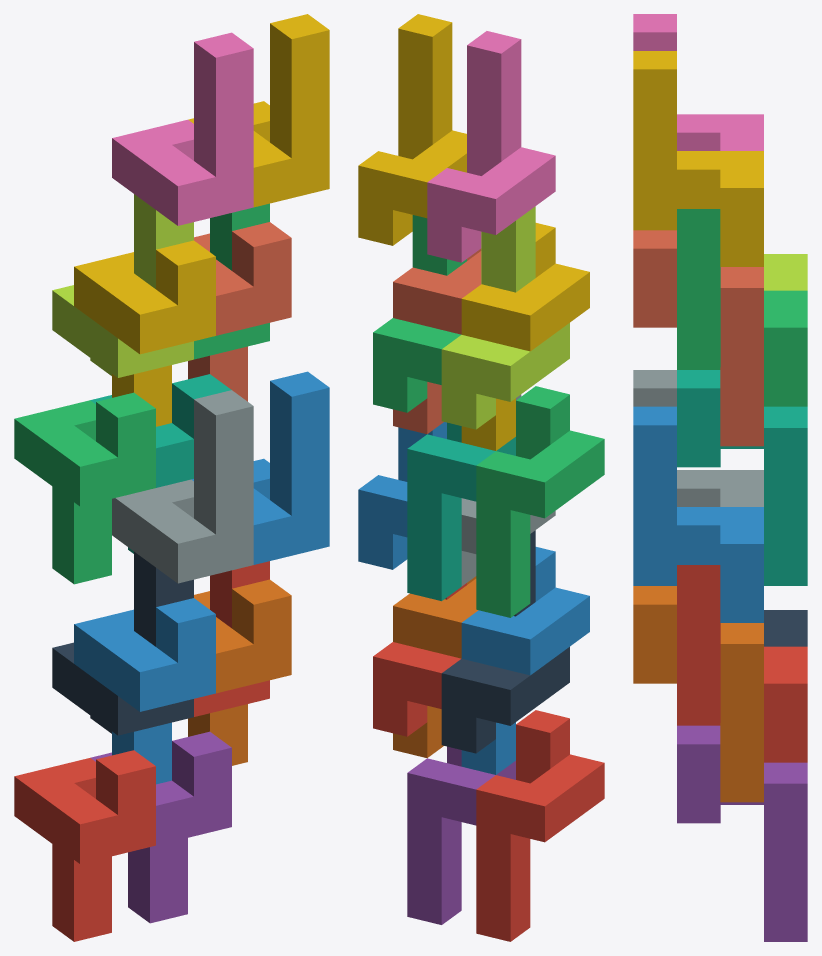
Rendered from tiling.obj.
3 renders of one model, left to right at view 1: azimuth 30°, elevation 25°; view 2: azimuth 150°, elevation 25°; view 3: azimuth 270°, elevation 25°, orthographic. The views are drawn at different scales.
Visible parts, largest first — view 1: copy_2_domain_4, copy_1_domain_3, copy_1_domain_1, copy_2_domain_2, copy_1_domain_2, copy_1_domain_4, copy_2_domain_8, copy_2_domain_6, copy_1_domain_5, copy_1_domain_6, copy_1_domain_8, copy_2_domain_3 (+4 smaller); view 2: copy_2_domain_4, copy_1_domain_3, copy_1_domain_1, copy_2_domain_8, copy_2_domain_3, copy_1_domain_5, copy_1_domain_7, copy_1_domain_4, copy_1_domain_2, copy_2_domain_1, copy_2_domain_7, copy_1_domain_8 (+4 smaller); view 3: copy_2_domain_6, copy_2_domain_8, copy_1_domain_5, copy_1_domain_7, copy_1_domain_6, copy_1_domain_8, copy_2_domain_7, copy_2_domain_5, copy_2_domain_2, copy_2_domain_4, copy_2_domain_1, copy_2_domain_3.
Part boxes in pixels (bbox=[...]): copy_2_domain_4: bbox=[112, 32, 253, 225]; copy_1_domain_3: bbox=[14, 392, 155, 584]; copy_1_domain_1: bbox=[14, 750, 155, 941]; copy_2_domain_2: bbox=[112, 390, 253, 583]; copy_1_domain_2: bbox=[74, 598, 215, 784]; copy_1_domain_4: bbox=[74, 240, 215, 426]; copy_2_domain_8: bbox=[188, 14, 329, 207]; copy_2_domain_6: bbox=[191, 371, 329, 564]; copy_1_domain_5: bbox=[90, 731, 231, 923]; copy_1_domain_6: bbox=[188, 579, 291, 765]; copy_1_domain_8: bbox=[188, 222, 291, 401]; copy_2_domain_3: bbox=[52, 194, 193, 377]; copy_2_domain_4: bbox=[427, 31, 555, 262]; copy_1_domain_3: bbox=[476, 386, 604, 617]; copy_1_domain_1: bbox=[476, 710, 604, 941]; copy_2_domain_8: bbox=[358, 14, 466, 245]; copy_2_domain_3: bbox=[441, 206, 569, 429]; copy_1_domain_5: bbox=[407, 746, 515, 924]; copy_1_domain_7: bbox=[407, 422, 515, 601]; copy_1_domain_4: bbox=[461, 223, 589, 450]; copy_1_domain_2: bbox=[461, 547, 589, 774]; copy_2_domain_1: bbox=[441, 530, 569, 753]; copy_2_domain_7: bbox=[373, 215, 466, 412]; copy_1_domain_8: bbox=[393, 248, 481, 433]; copy_2_domain_6: bbox=[633, 406, 763, 622]; copy_2_domain_8: bbox=[633, 51, 763, 266]; copy_1_domain_5: bbox=[677, 725, 807, 941]; copy_1_domain_7: bbox=[677, 370, 807, 585]; copy_1_domain_6: bbox=[633, 586, 763, 802]; copy_1_domain_8: bbox=[633, 230, 763, 446]; copy_2_domain_7: bbox=[677, 209, 807, 406]; copy_2_domain_5: bbox=[677, 565, 807, 762]; copy_2_domain_2: bbox=[633, 370, 763, 506]; copy_2_domain_4: bbox=[633, 14, 763, 150]; copy_2_domain_1: bbox=[764, 610, 807, 646]; copy_2_domain_3: bbox=[764, 254, 807, 290].
Size of the model in its own units: 6 by 23 by 4.
